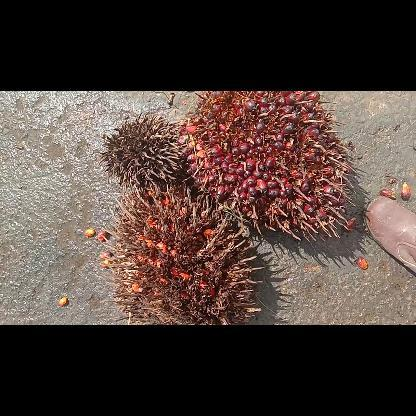Janjang kosong: (98, 112, 188, 188)
TBS masak: (178, 91, 356, 237)
Terlalu masak: (100, 182, 264, 324)
